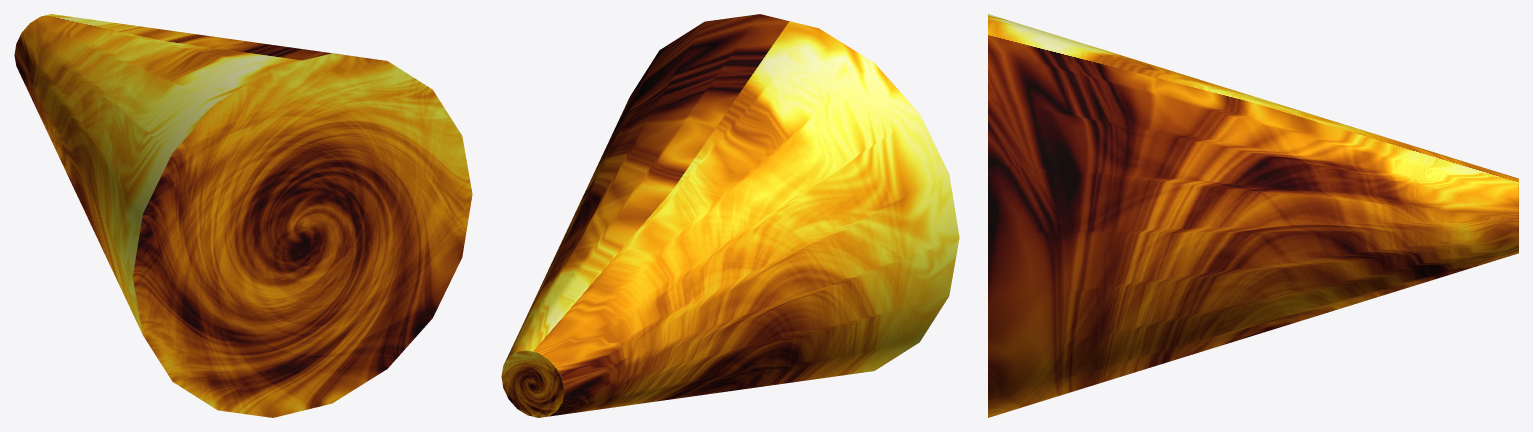
File: SpaceWarp1rot.FBX
The picture shows the model from 3 angles, left to right: view 1: azimuth 30°, elevation 25°; view 2: azimuth 150°, elevation 25°; view 3: azimuth 270°, elevation 25°; orthographic projection. The views are drawn at different scales.
Parts seen in each view (by area): view 1: Warp1; view 2: Warp1; view 3: Warp1.
Boxes of the visible parts, box(x1,y1,x2,y2) form: Warp1: box(14, 14, 472, 417); Warp1: box(501, 14, 959, 417); Warp1: box(988, 14, 1518, 417).
Size of the model in its own units: 26.89 by 26.48 by 35.19.
1 material, 1 textured.
